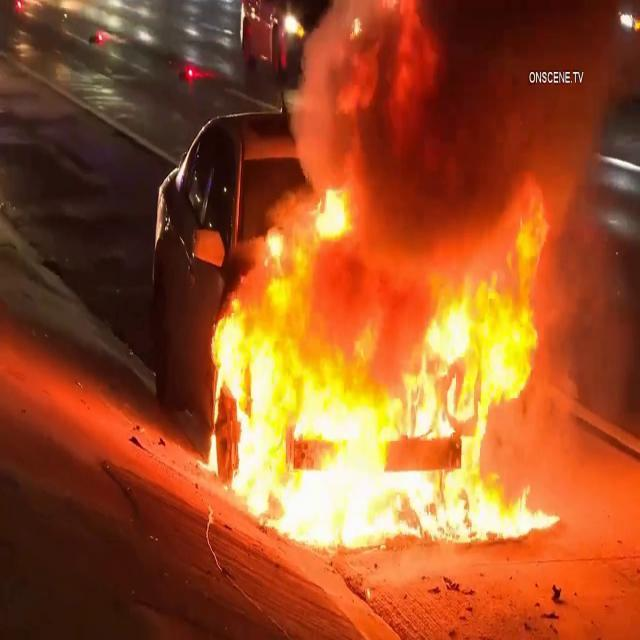Fire: (213, 280, 581, 548), (310, 180, 356, 244)
Smoke: (285, 0, 640, 274)
